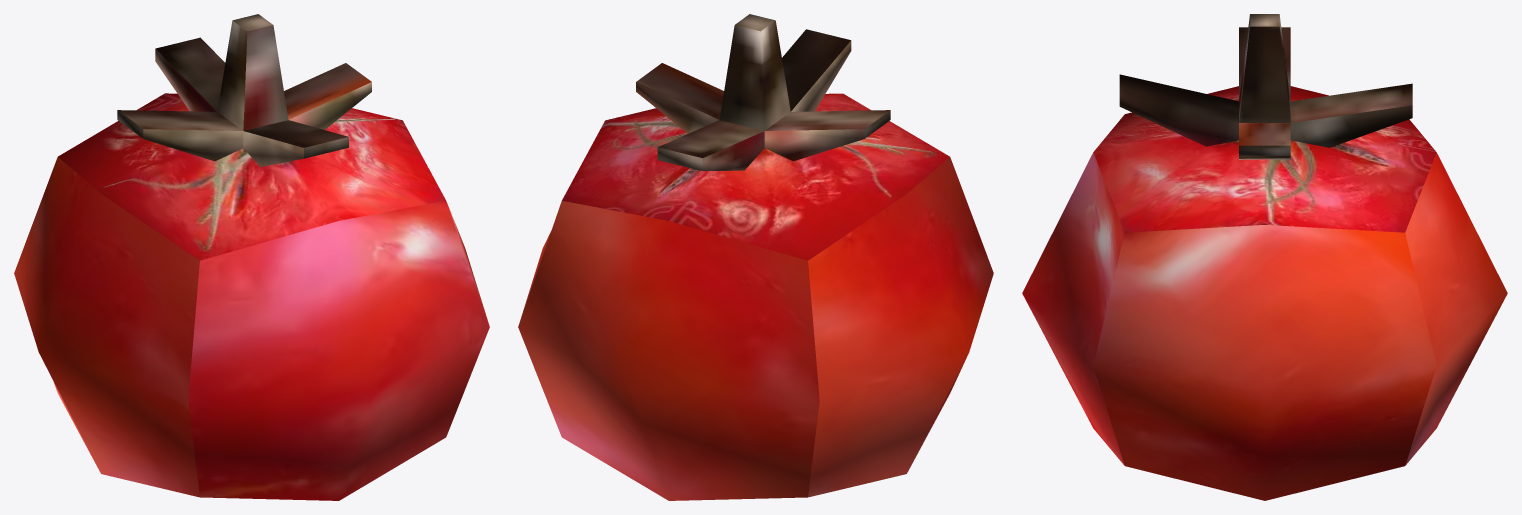
File: oscar tomato.glb
3 views of the same model, side by side, from view 1: azimuth 30°, elevation 25°; view 2: azimuth 150°, elevation 25°; view 3: azimuth 270°, elevation 25° (orthographic).
Parts seen in each view (by area): view 1: Cube, Cube.001; view 2: Cube, Cube.001; view 3: Cube, Cube.001.
Boxes of the visible parts, bbox=[...] form: Cube: bbox=[14, 93, 489, 500]; Cube.001: bbox=[117, 14, 371, 166]; Cube: bbox=[518, 93, 993, 500]; Cube.001: bbox=[636, 14, 890, 171]; Cube: bbox=[1022, 86, 1507, 500]; Cube.001: bbox=[1119, 14, 1412, 159].
Size of the model in its own units: 3.46 by 3.53 by 3.46.
Materials: 2 (2 with a texture image).
